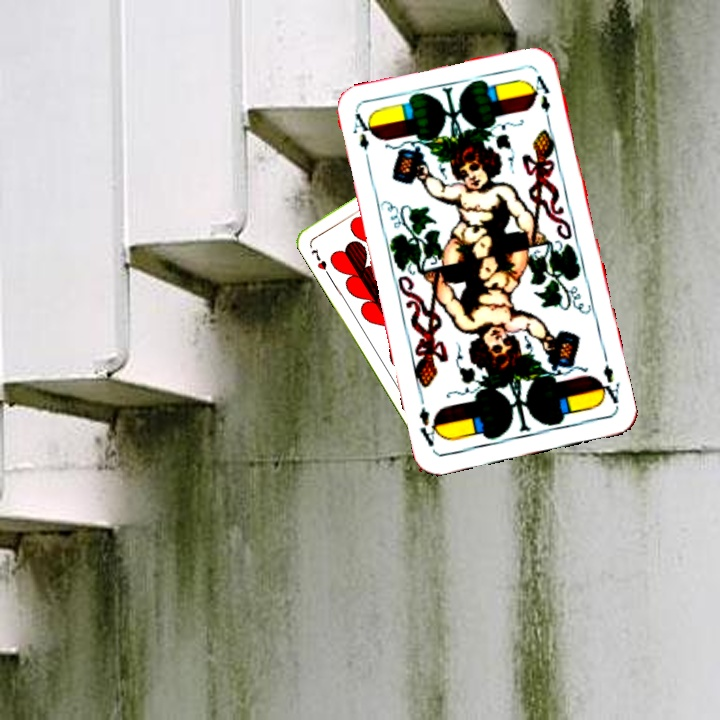EA: (593, 360, 622, 409), (349, 109, 376, 153)
H7: (307, 245, 329, 273)
